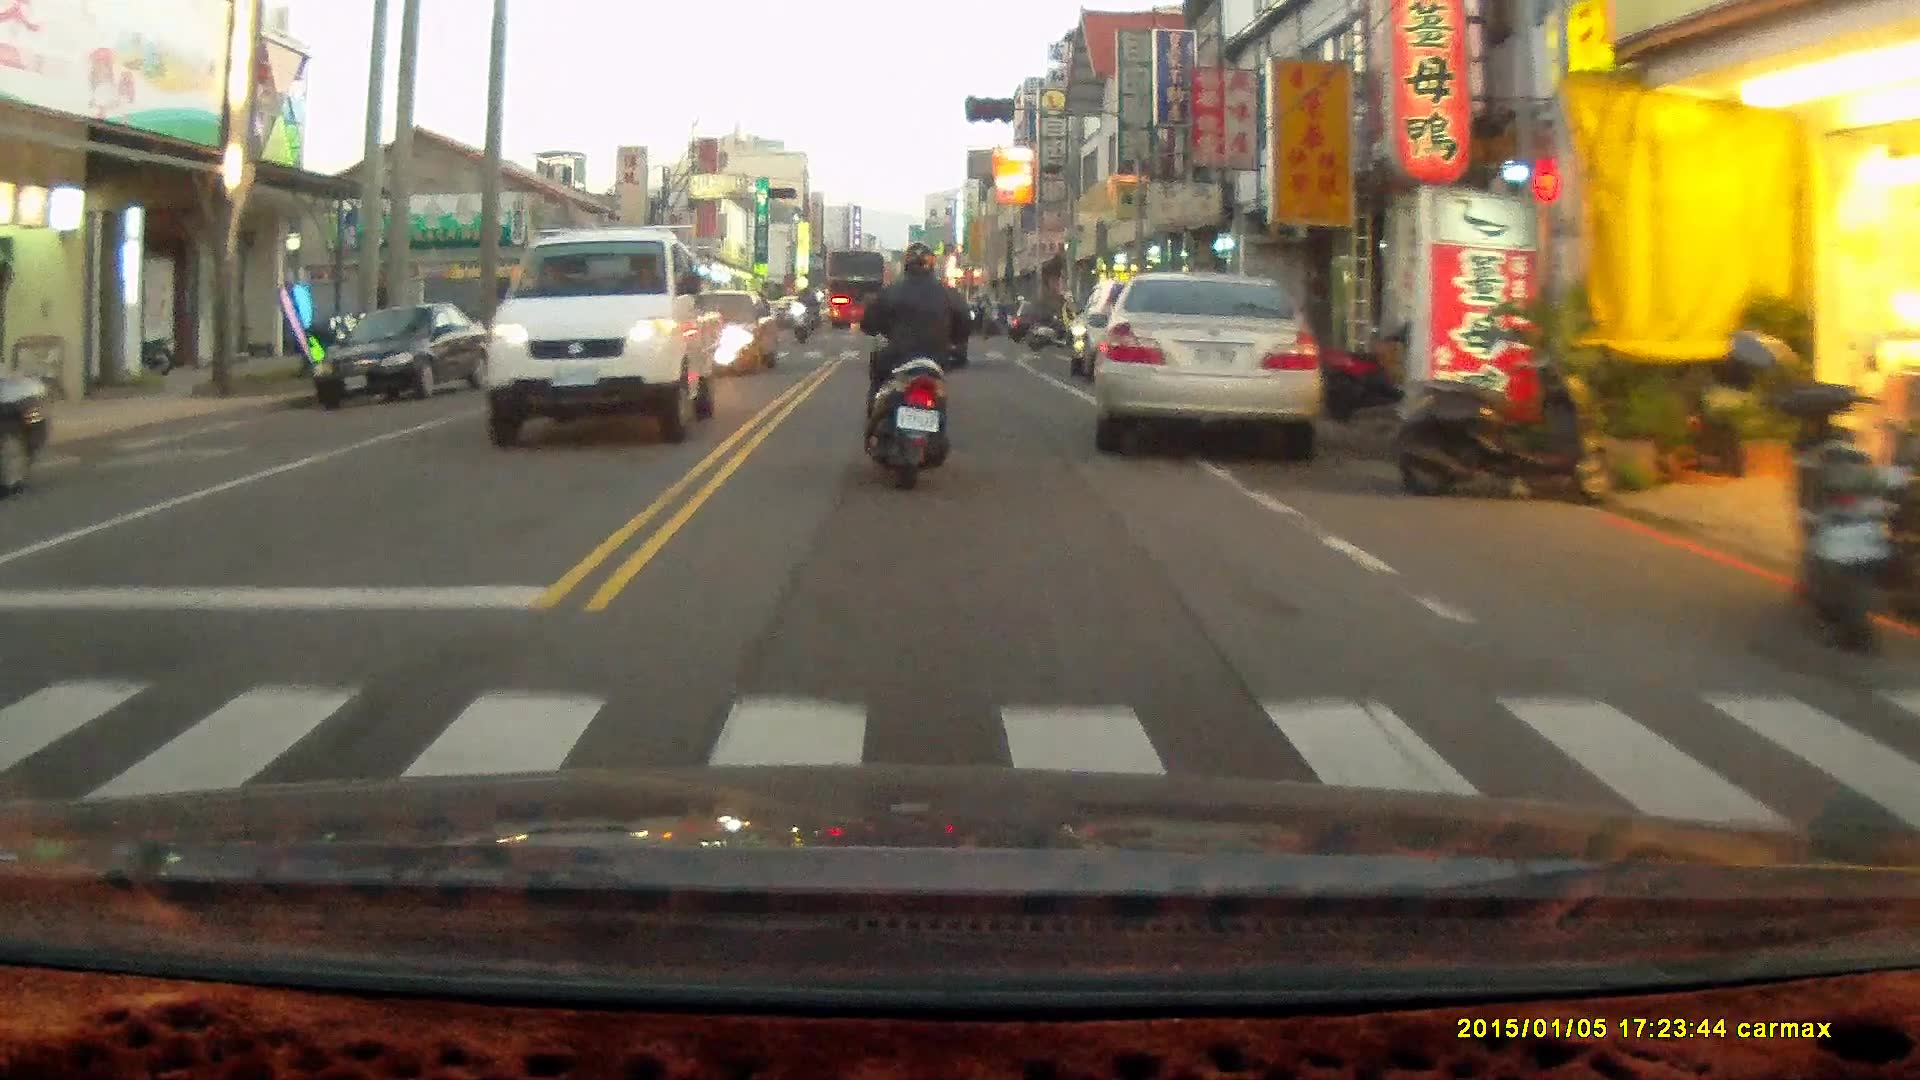rider: (854, 242, 976, 491)
vehicle: (480, 234, 713, 452), (1086, 271, 1326, 463), (312, 308, 487, 409), (823, 252, 888, 334)
